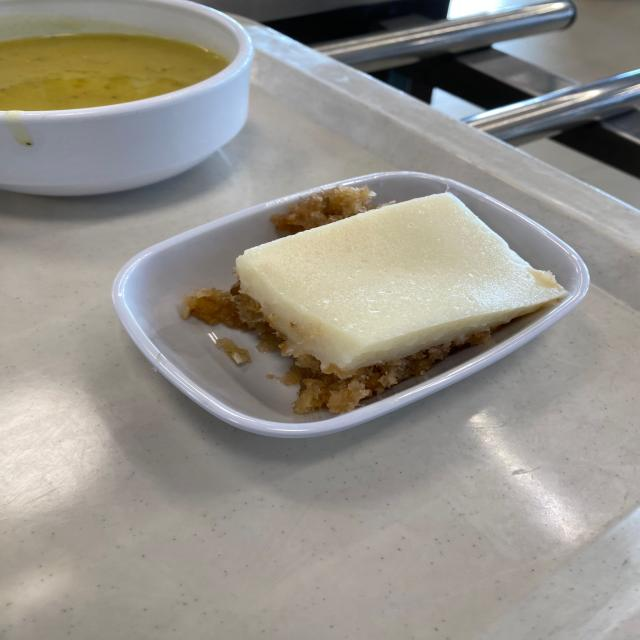yan_yemek: (131, 192, 525, 436)
